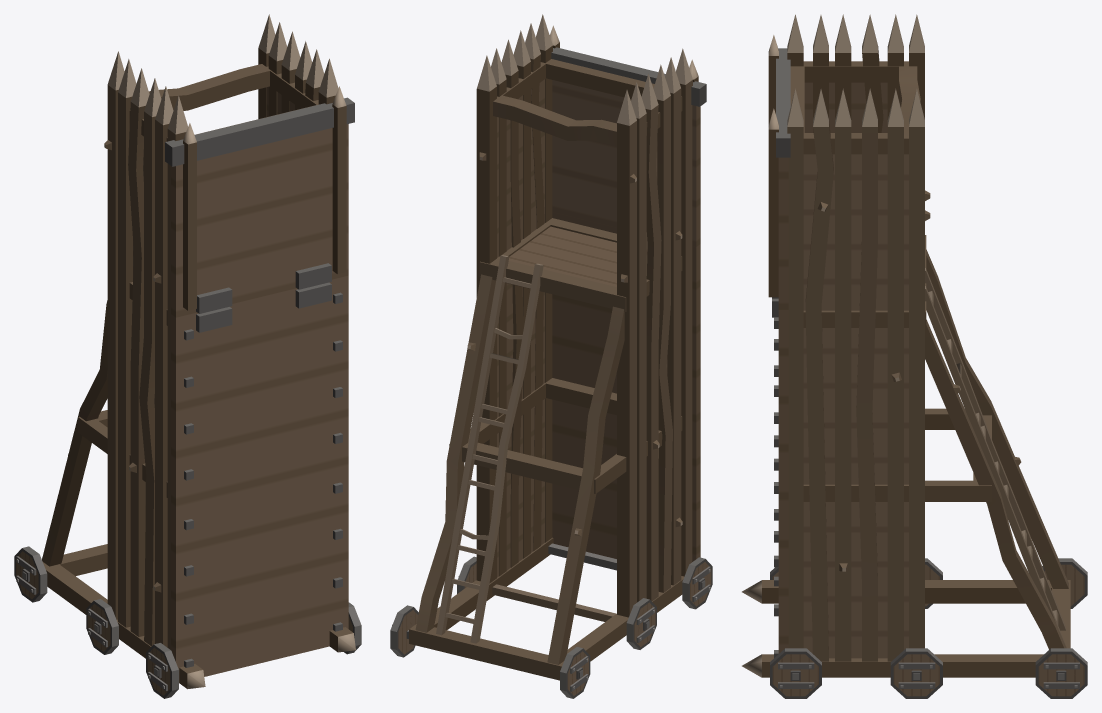
File: SF_Veh_Goblin_SiegeTower_01.fbx
3 renders of one model, left to right at view 1: azimuth 30°, elevation 25°; view 2: azimuth 150°, elevation 25°; view 3: azimuth 270°, elevation 25°, orthographic. The views are drawn at different scales.
Visible parts, largest first — view 1: SF_Veh_Goblin_SiegeTower_01, SF_Veh_Goblin_SiegeTower_Gate, SF_Veh_Goblin_SiegeTower_WheelBR, SF_Veh_Goblin_SiegeTower_WheelFR, SF_Veh_Goblin_SiegeTower_WheelMR; view 2: SF_Veh_Goblin_SiegeTower_01, SF_Veh_Goblin_SiegeTower_Gate, SF_Veh_Goblin_SiegeTower_WheelBR, SF_Veh_Goblin_SiegeTower_WheelMR, SF_Veh_Goblin_SiegeTower_WheelFR, SF_Veh_Goblin_SiegeTower_WheelBL; view 3: SF_Veh_Goblin_SiegeTower_01, SF_Veh_Goblin_SiegeTower_Gate, SF_Veh_Goblin_SiegeTower_WheelML, SF_Veh_Goblin_SiegeTower_WheelBL, SF_Veh_Goblin_SiegeTower_WheelFL, SF_Veh_Goblin_SiegeTower_WheelBR.
Part boxes in pixels (x1=…): SF_Veh_Goblin_SiegeTower_01: x1=42, y1=14, x2=355, y2=689; SF_Veh_Goblin_SiegeTower_Gate: x1=165, y1=86, x2=354, y2=317; SF_Veh_Goblin_SiegeTower_WheelBR: x1=14, y1=546, x2=47, y2=602; SF_Veh_Goblin_SiegeTower_WheelFR: x1=146, y1=643, x2=178, y2=698; SF_Veh_Goblin_SiegeTower_WheelMR: x1=86, y1=599, x2=118, y2=654; SF_Veh_Goblin_SiegeTower_01: x1=406, y1=14, x2=700, y2=680; SF_Veh_Goblin_SiegeTower_Gate: x1=549, y1=25, x2=706, y2=246; SF_Veh_Goblin_SiegeTower_WheelBR: x1=560, y1=647, x2=590, y2=698; SF_Veh_Goblin_SiegeTower_WheelMR: x1=626, y1=598, x2=656, y2=649; SF_Veh_Goblin_SiegeTower_WheelFR: x1=682, y1=557, x2=712, y2=609; SF_Veh_Goblin_SiegeTower_WheelBL: x1=390, y1=605, x2=418, y2=657; SF_Veh_Goblin_SiegeTower_01: x1=742, y1=14, x2=1070, y2=677; SF_Veh_Goblin_SiegeTower_Gate: x1=768, y1=35, x2=790, y2=309; SF_Veh_Goblin_SiegeTower_WheelML: x1=890, y1=648, x2=942, y2=698; SF_Veh_Goblin_SiegeTower_WheelBL: x1=1035, y1=648, x2=1087, y2=698; SF_Veh_Goblin_SiegeTower_WheelFL: x1=770, y1=648, x2=821, y2=698; SF_Veh_Goblin_SiegeTower_WheelBR: x1=1042, y1=558, x2=1087, y2=608.
Size of the model in its own units: 5.31 by 15.42 by 8.05.
